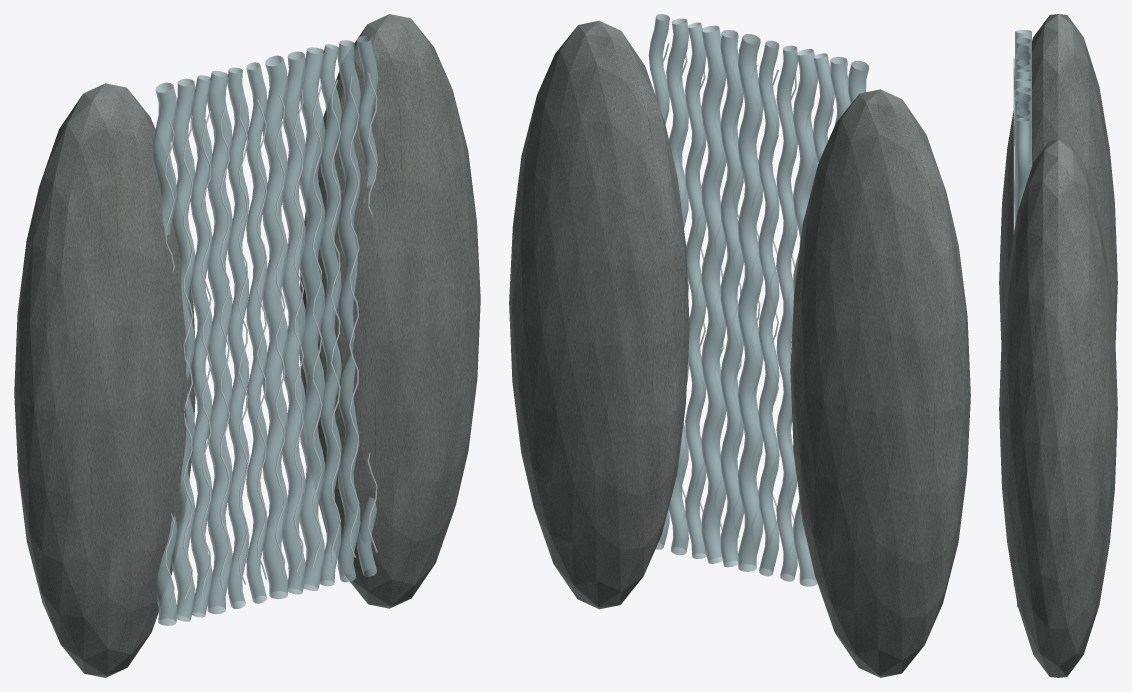
File: waterfall.glb
3 views of the same model, side by side, from view 1: azimuth 30°, elevation 25°; view 2: azimuth 150°, elevation 25°; view 3: azimuth 270°, elevation 25° (orthographic). The views are drawn at different scales.
Visible parts, largest first — view 1: Falls granite, Waterfall white water, Foam streaks; view 2: Falls granite, Waterfall white water, Foam streaks; view 3: Falls granite, Waterfall white water, Foam streaks.
Boxes of the visible parts, bbox=[...] form: Falls granite: bbox=[14, 14, 480, 677]; Waterfall white water: bbox=[152, 35, 378, 625]; Foam streaks: bbox=[164, 72, 377, 602]; Falls granite: bbox=[509, 20, 970, 677]; Waterfall white water: bbox=[648, 14, 869, 586]; Foam streaks: bbox=[663, 43, 833, 537]; Falls granite: bbox=[999, 14, 1117, 677]; Waterfall white water: bbox=[1014, 30, 1031, 607]; Foam streaks: bbox=[1013, 58, 1015, 585].
Size of the model in its own units: 16 by 20.07 by 4.
3 materials, 1 textured.
